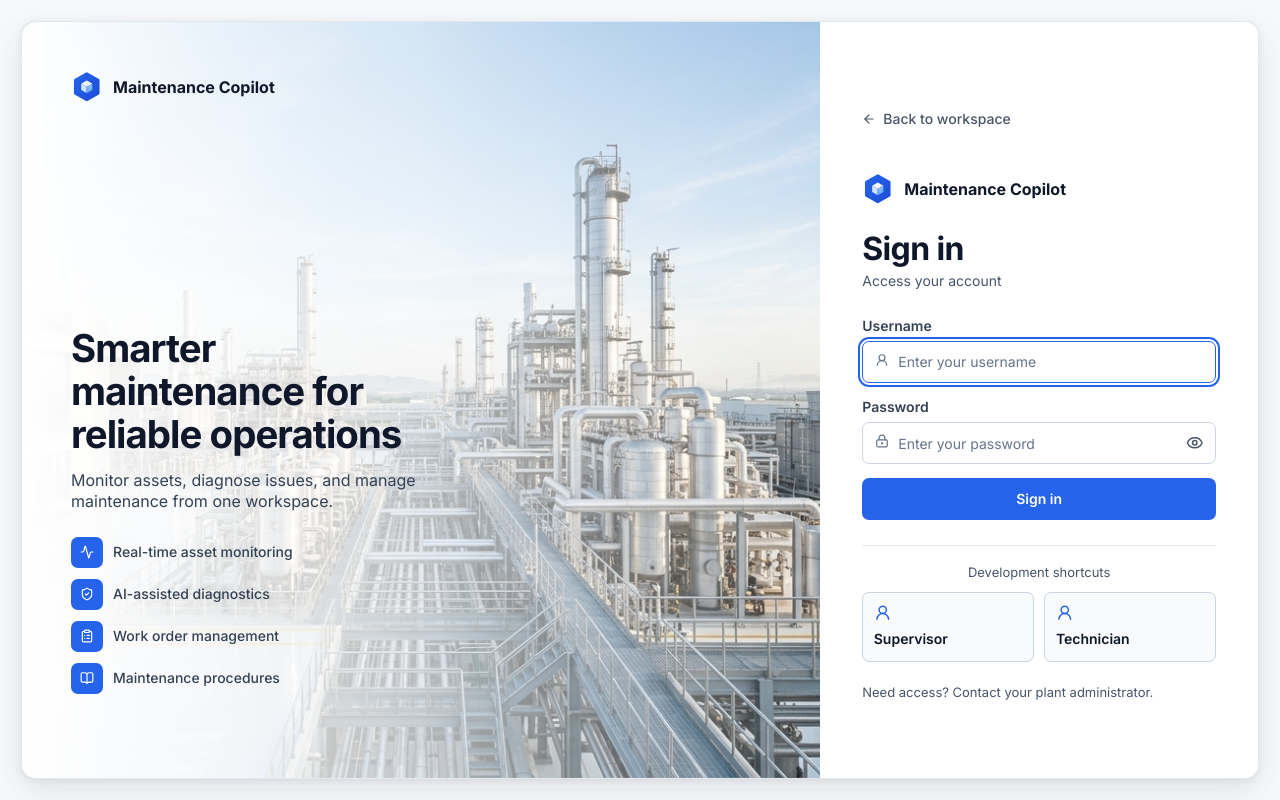
Test: SignInPage › marks both fields and clears the password on wrong credentials
Type "tech1" into the field labelled "Username" at (1039, 362), box [862,341,1216,383]
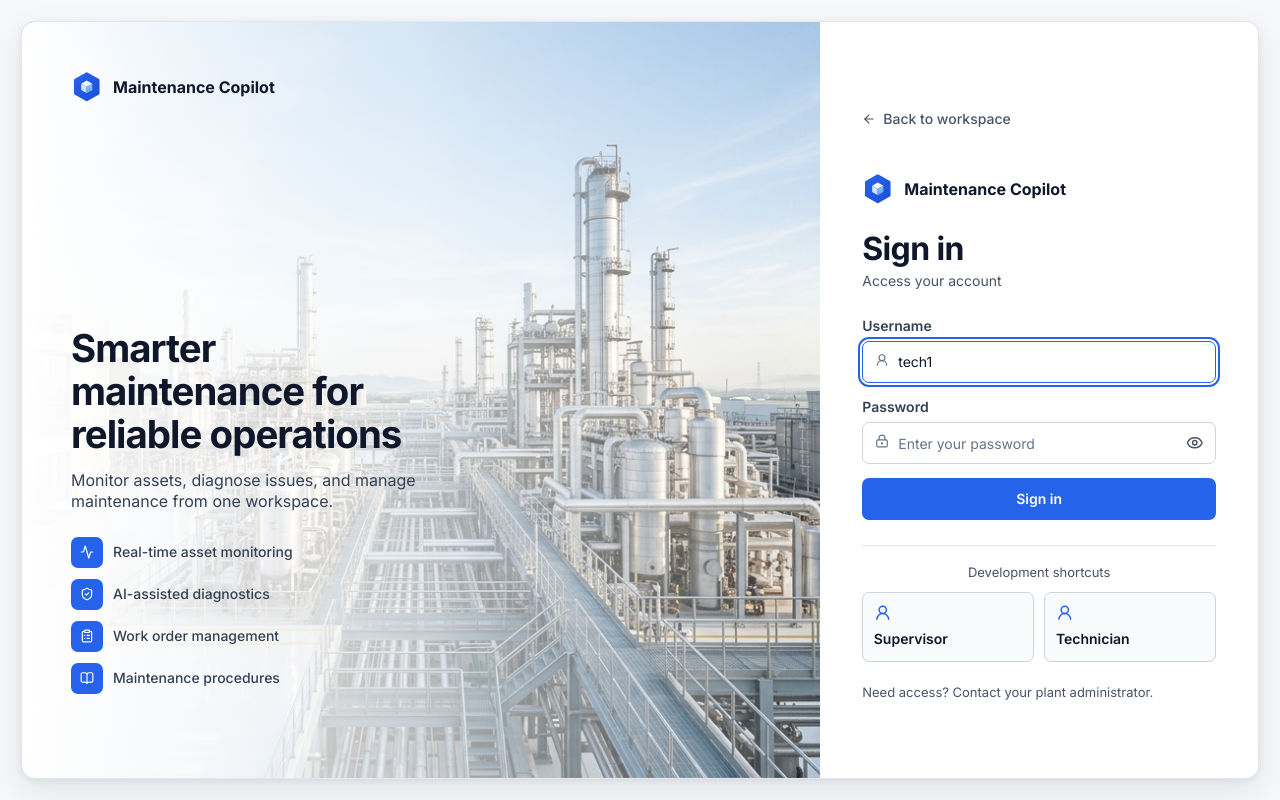
Type "wrong-password" into the password field labelled "Password" at (1039, 443), box [862,422,1216,464]
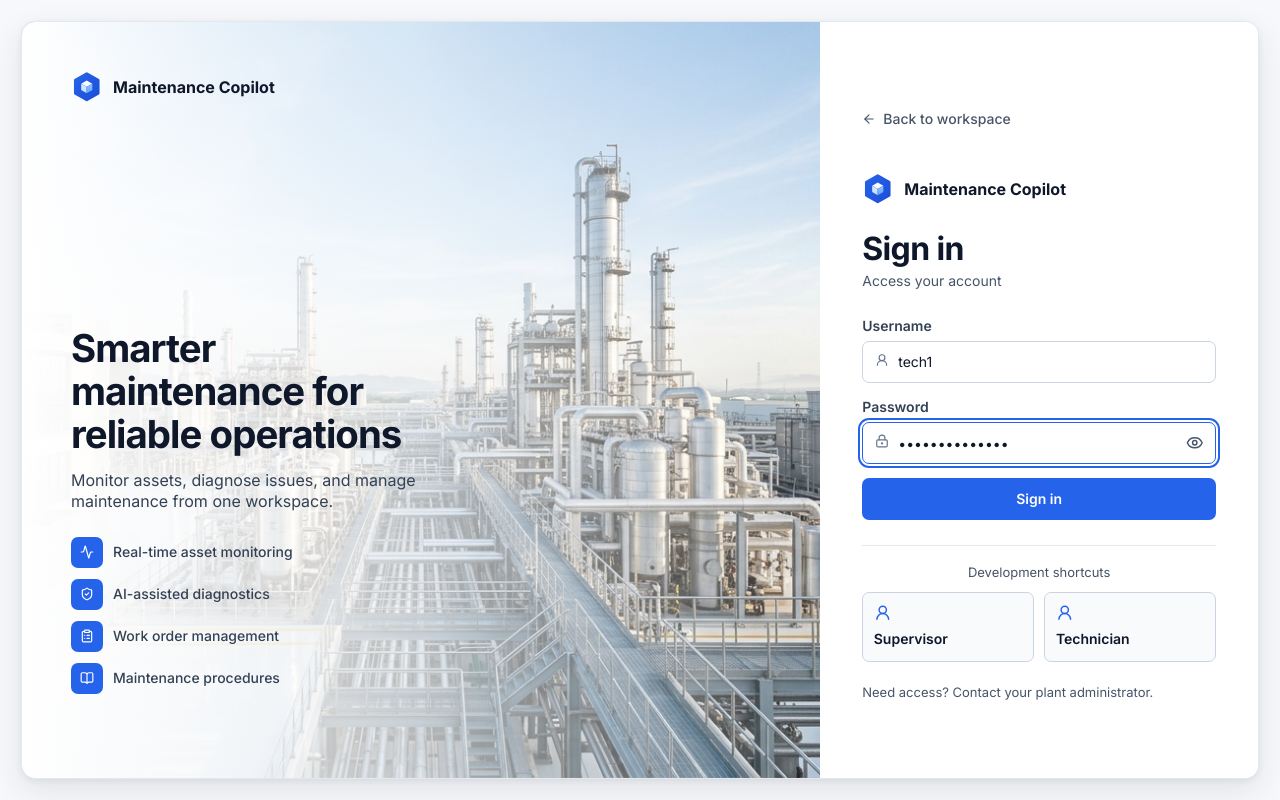
Click the button "Sign in" at (1039, 499), box [862,478,1216,520]
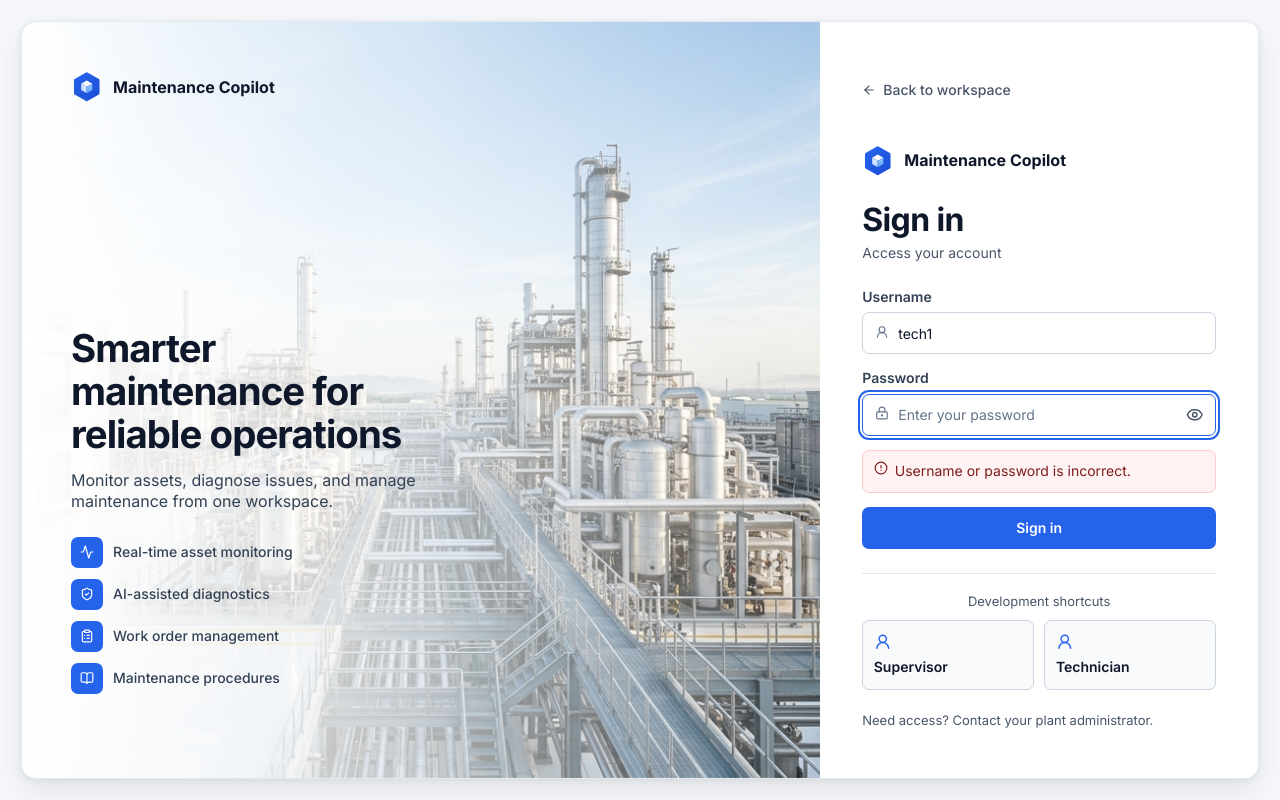
Expected: the message reads "Username or password is incorrect.", [895,462,1131,479]
Expected: the password field labelled "Password" is empty, [862,394,1216,436]
